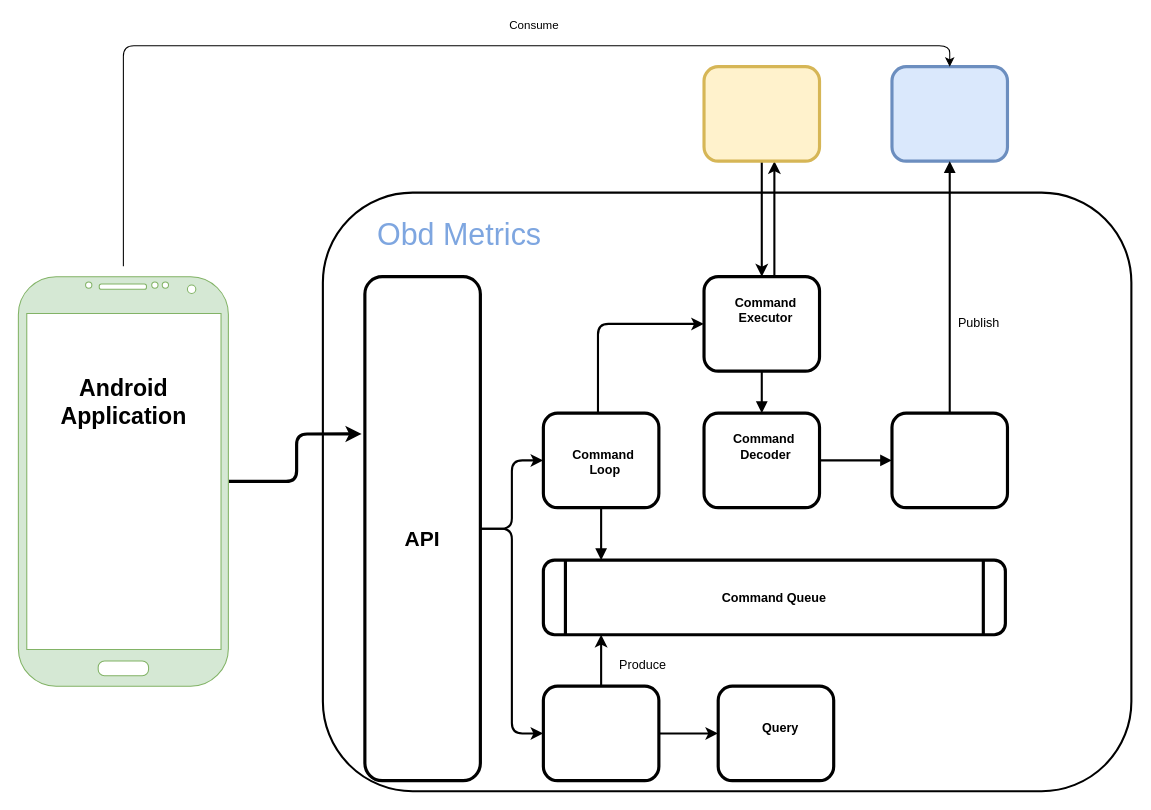
Some shapes in this 1151 by 810 pixel diagram are drawn without their labels. The box of each missing label's shape, as (x1, y1, x2, y2) in pixels:
Command Producer: (541, 684, 660, 782)
OBD Adapter: (702, 65, 821, 162)
OBD Frame: (890, 65, 1009, 162)
OBD Metrics Publisher: (890, 411, 1009, 509)
